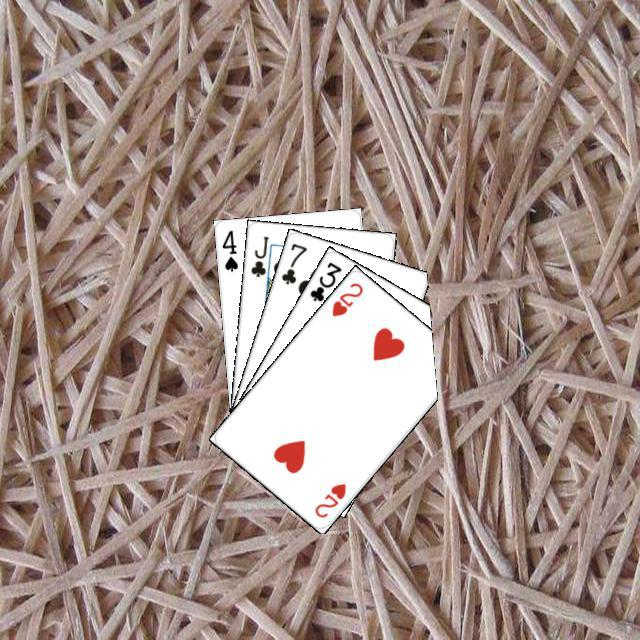2h: (309, 478, 348, 520), (327, 278, 365, 318)
3c: (305, 257, 343, 303)
4s: (217, 225, 240, 273)
7c: (276, 238, 309, 286)
Jc: (246, 231, 270, 279)
